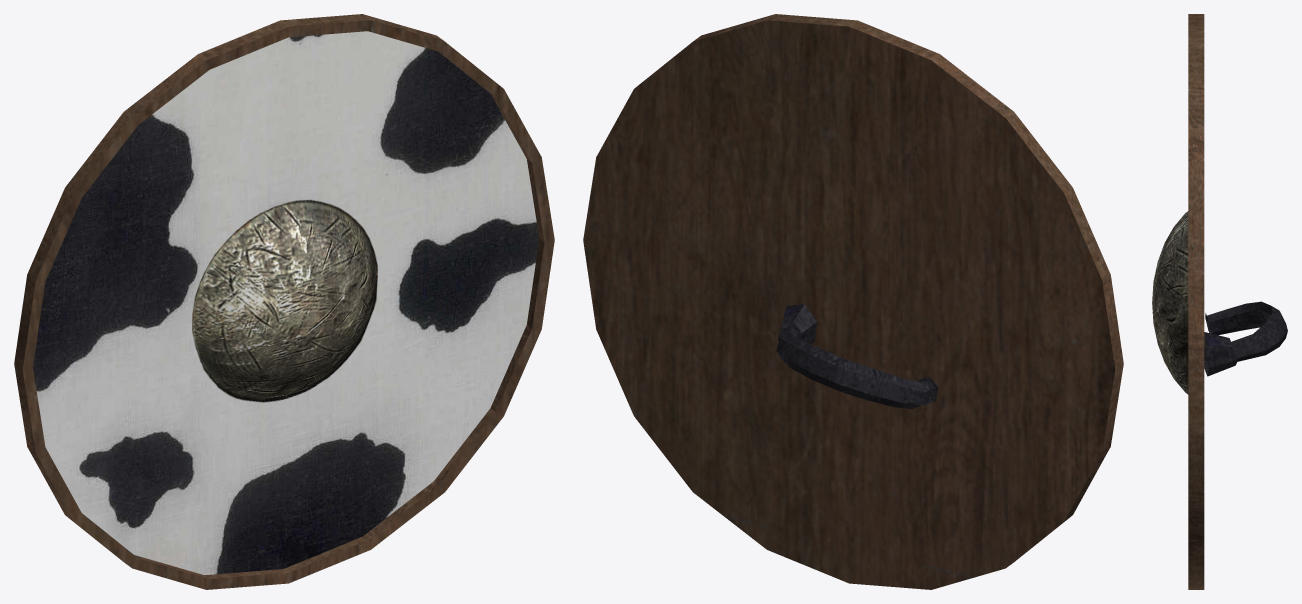
File: Shield.FBX
The picture shows the model from 3 angles, left to right: view 1: azimuth 30°, elevation 25°; view 2: azimuth 150°, elevation 25°; view 3: azimuth 270°, elevation 25°; orthographic projection. The views are drawn at different scales.
Visible parts, largest first — view 1: shield; view 2: shield; view 3: shield.
Part boxes in pixels (x1,y1,x2,y2): shield: [14, 14, 554, 589]; shield: [583, 14, 1123, 589]; shield: [1152, 14, 1287, 589].
Bounding box in the file's own units: 95.98 × 95.98 × 22.48.
Materials: 1 (1 with a texture image).
